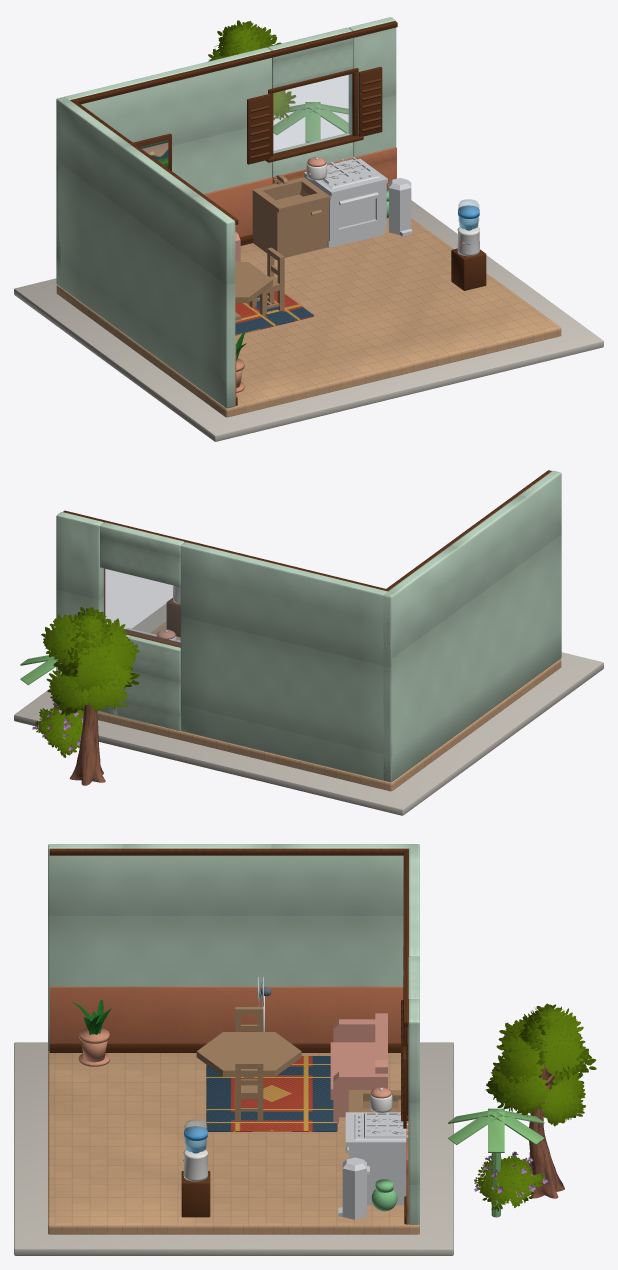
File: room_kampung_house.glb
3 views of the same model, one above another, from view 1: azimuth 30°, elevation 25°; view 2: azimuth 150°, elevation 25°; view 3: azimuth 270°, elevation 25° (orthographic). The views are drawn at different scales.
Visible parts, largest first — view 1: FloorSlab, WallLeft, YardPatio, WallBack_Left, WinGlass, WallBack_Right, kitchenSink(Clone), WallBack_Top, kitchenStove(Clone), CrownBack, CommonTree_1, door.001 (+14 smaller); view 2: WallBack_Left, WallLeft, YardPatio, CommonTree_1, FloorSlab, WallBack_Right, WinGlass, WallBack_Bot, WallBack_Top, Bush_Common_Flowers, CrownBack, CrownLeft (+1 smaller); view 3: WallLeft, FloorSlab, YardPatio, DadoLeft, CommonTree_1, LivingTikar, loungeSofa(Clone), kitchenStove(Clone), tableRound(Clone), CrownLeft, WallBack_Right, Bush_Common_Flowers (+12 smaller).
Part boxes in pixels (box(x1,y1,x2,y2)): FloorSlab: box(56, 218, 561, 417); WallLeft: box(56, 96, 235, 408); YardPatio: box(14, 200, 603, 441); WallBack_Left: box(56, 47, 271, 286); WinGlass: box(273, 74, 351, 153); WallBack_Right: box(348, 17, 396, 157); kitchenSink(Clone): box(252, 174, 330, 259); WallBack_Top: box(268, 27, 352, 88); kitchenStove(Clone): box(304, 157, 387, 247); CrownBack: box(70, 21, 397, 104); CommonTree_1: box(208, 20, 295, 119); door.001: box(333, 186, 382, 236); WallBack_Left: box(180, 542, 395, 781); WallLeft: box(383, 470, 561, 782); YardPatio: box(14, 603, 603, 815); CommonTree_1: box(41, 607, 139, 785); FloorSlab: box(56, 621, 561, 791); WallBack_Right: box(56, 512, 103, 676); WinGlass: box(103, 568, 180, 646); WallBack_Bot: box(100, 635, 180, 730); WallBack_Top: box(100, 522, 184, 586); Bush_Common_Flowers: box(32, 702, 83, 757); CrownBack: box(63, 510, 389, 590); CrownLeft: box(385, 470, 551, 591); WallLeft: box(48, 844, 419, 1050); FloorSlab: box(48, 1050, 419, 1234); YardPatio: box(14, 1042, 453, 1255); DadoLeft: box(49, 986, 403, 1043); CommonTree_1: box(485, 1003, 596, 1198); LivingTikar: box(206, 1056, 337, 1131); loungeSofa(Clone): box(330, 1013, 387, 1123); kitchenStove(Clone): box(345, 1112, 408, 1205); tableRound(Clone): box(196, 1032, 301, 1079); CrownLeft: box(49, 848, 408, 855); WallBack_Right: box(408, 999, 419, 1224); Bush_Common_Flowers: box(474, 1151, 547, 1211).
Size of what is drawn, in the model's own units: 5.8 by 2.87 by 6.97.
Materials: 34 (11 with a texture image).
